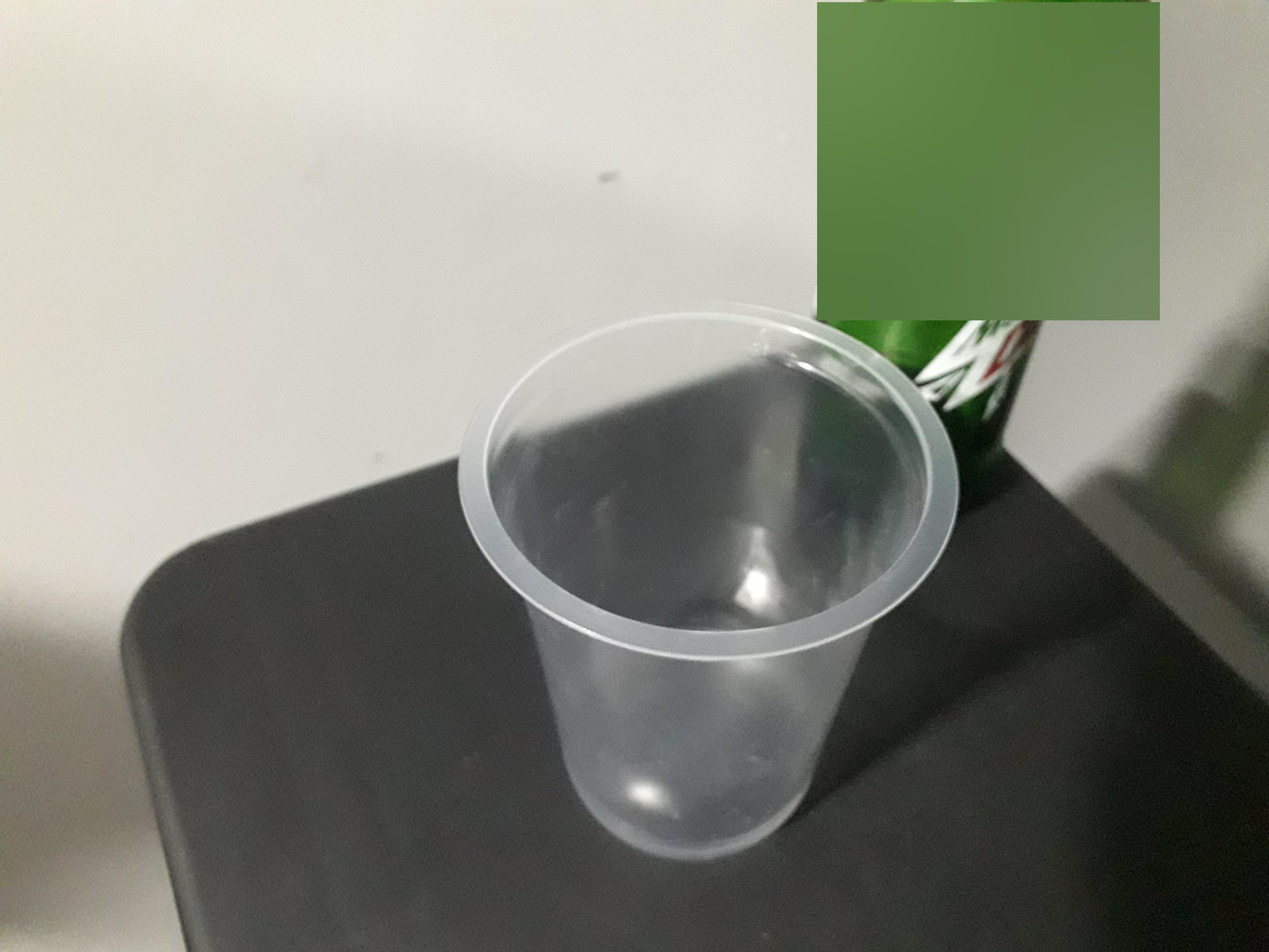cup-disposable: (457, 295, 957, 861)
